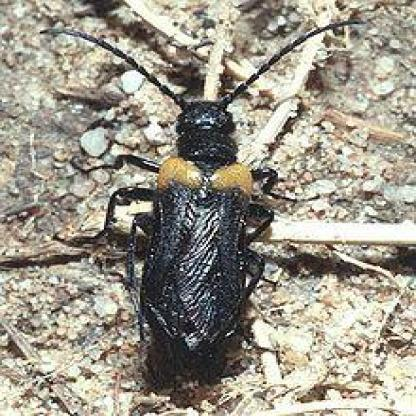beetle: (50, 21, 365, 384)
